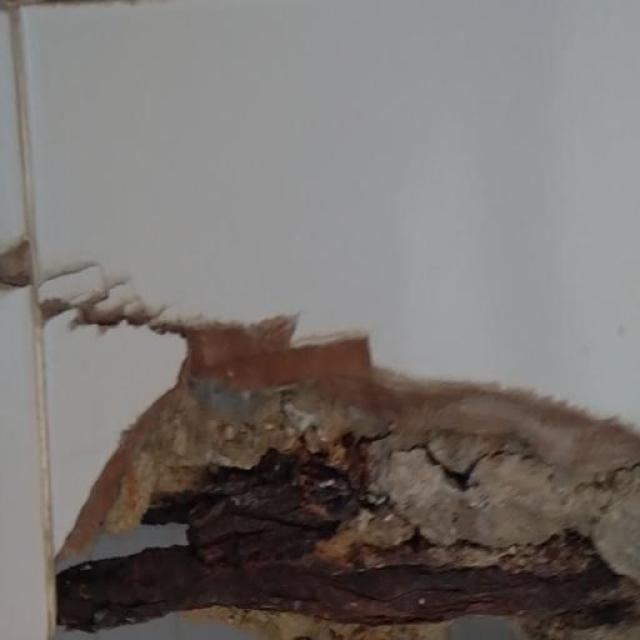spalling: (50, 328, 639, 636)
